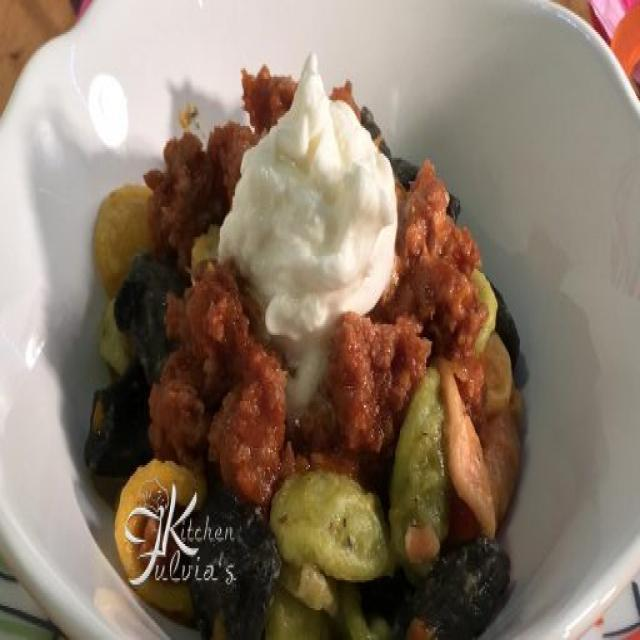Pasta al ragu: (78, 49, 552, 505)
